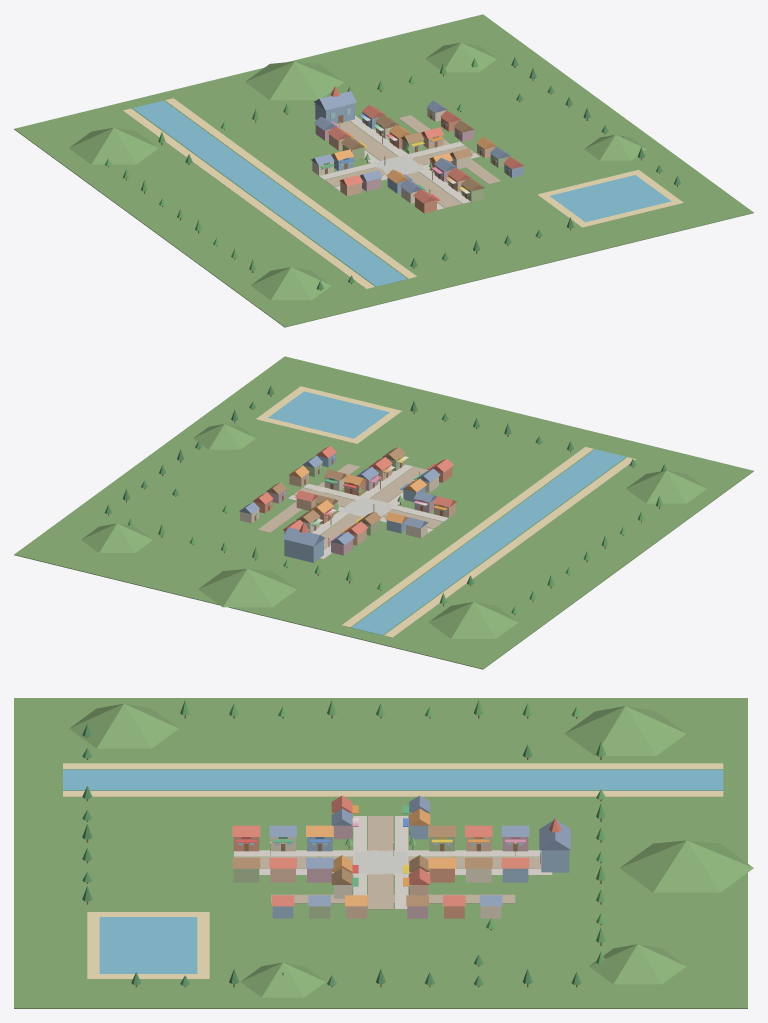
Rendered from town.glb.
The picture shows the model from 3 angles, top to bottom: view 1: azimuth 30°, elevation 25°; view 2: azimuth 150°, elevation 25°; view 3: azimuth 270°, elevation 25°; orthographic projection. The views are drawn at different scales.
Visible parts, largest first — view 1: Town; view 2: Town; view 3: Town.
Boxes of the visible parts, left/top/right/bottom form: Town: left=14, top=14, right=753, bottom=327; Town: left=14, top=356, right=753, bottom=669; Town: left=14, top=698, right=753, bottom=1008.
Bounding box in the file's own units: 120 × 8.42 × 121.
